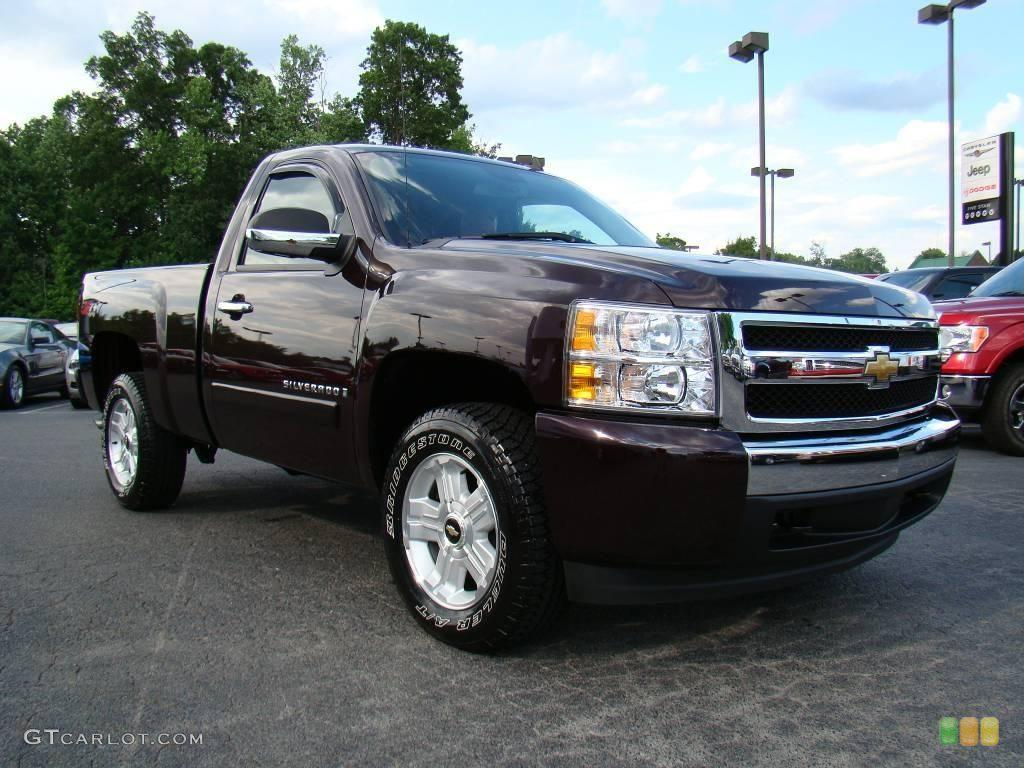car: (56, 115, 957, 669)
